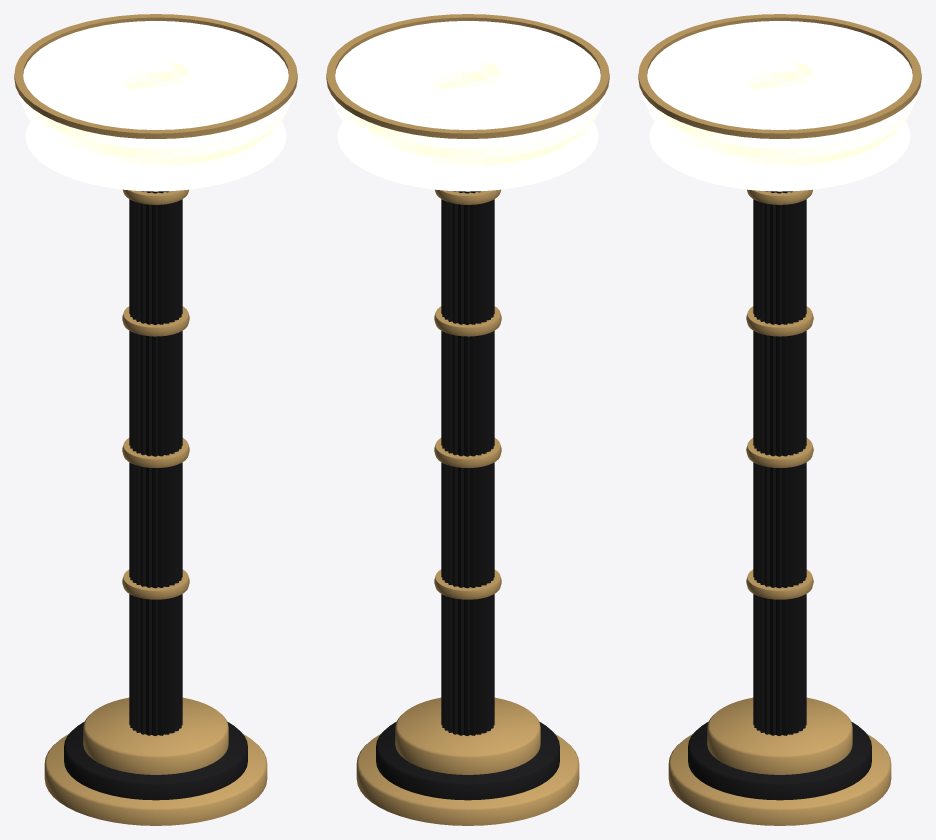
File: torchere_deco.glb
3 renders of one model, left to right at view 1: azimuth 30°, elevation 25°; view 2: azimuth 150°, elevation 25°; view 3: azimuth 270°, elevation 25°, orthographic.
Parts seen in each view (by area): view 1: Bowl_LOD0, Column_LOD0, Plinth2_LOD0, Plinth0_LOD0, Plinth1_LOD0, Rim_LOD0, Collar2_LOD0, Collar0_LOD0, Collar1_LOD0, Collar3_LOD0; view 2: Bowl_LOD0, Column_LOD0, Plinth2_LOD0, Plinth0_LOD0, Plinth1_LOD0, Rim_LOD0, Collar2_LOD0, Collar0_LOD0, Collar1_LOD0, Collar3_LOD0; view 3: Bowl_LOD0, Column_LOD0, Plinth2_LOD0, Plinth0_LOD0, Plinth1_LOD0, Rim_LOD0, Collar2_LOD0, Collar0_LOD0, Collar1_LOD0, Collar3_LOD0.
Part boxes in pixels (bbox=[...]): Bowl_LOD0: bbox=[18, 21, 293, 191]; Column_LOD0: bbox=[129, 191, 182, 735]; Plinth2_LOD0: bbox=[83, 697, 228, 774]; Plinth0_LOD0: bbox=[44, 733, 267, 825]; Plinth1_LOD0: bbox=[64, 721, 247, 800]; Rim_LOD0: bbox=[14, 14, 297, 138]; Collar2_LOD0: bbox=[122, 306, 189, 336]; Collar0_LOD0: bbox=[122, 569, 189, 599]; Collar1_LOD0: bbox=[122, 438, 189, 467]; Collar3_LOD0: bbox=[123, 189, 188, 204]; Bowl_LOD0: bbox=[330, 21, 605, 191]; Column_LOD0: bbox=[441, 191, 494, 735]; Plinth2_LOD0: bbox=[395, 697, 540, 774]; Plinth0_LOD0: bbox=[356, 733, 579, 825]; Plinth1_LOD0: bbox=[376, 721, 559, 800]; Rim_LOD0: bbox=[326, 14, 609, 138]; Collar2_LOD0: bbox=[434, 306, 501, 336]; Collar0_LOD0: bbox=[434, 569, 501, 599]; Collar1_LOD0: bbox=[434, 438, 501, 467]; Collar3_LOD0: bbox=[435, 189, 500, 204]; Bowl_LOD0: bbox=[642, 21, 917, 191]; Column_LOD0: bbox=[753, 191, 806, 735]; Plinth2_LOD0: bbox=[707, 697, 852, 774]; Plinth0_LOD0: bbox=[668, 733, 891, 825]; Plinth1_LOD0: bbox=[688, 721, 871, 800]; Rim_LOD0: bbox=[638, 14, 921, 138]; Collar2_LOD0: bbox=[746, 306, 813, 336]; Collar0_LOD0: bbox=[746, 569, 813, 599]; Collar1_LOD0: bbox=[746, 438, 813, 467]; Collar3_LOD0: bbox=[747, 189, 812, 204].
Bounding box in the file's own units: 1.17 × 3.21 × 1.17.
